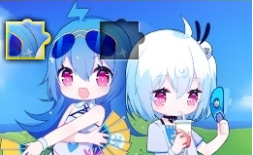gap: (100, 18, 145, 60)
